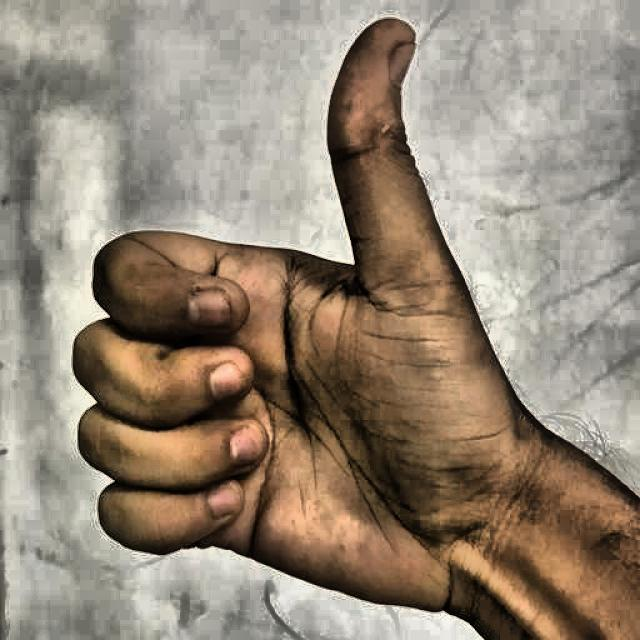Do: (51, 9, 532, 620)
